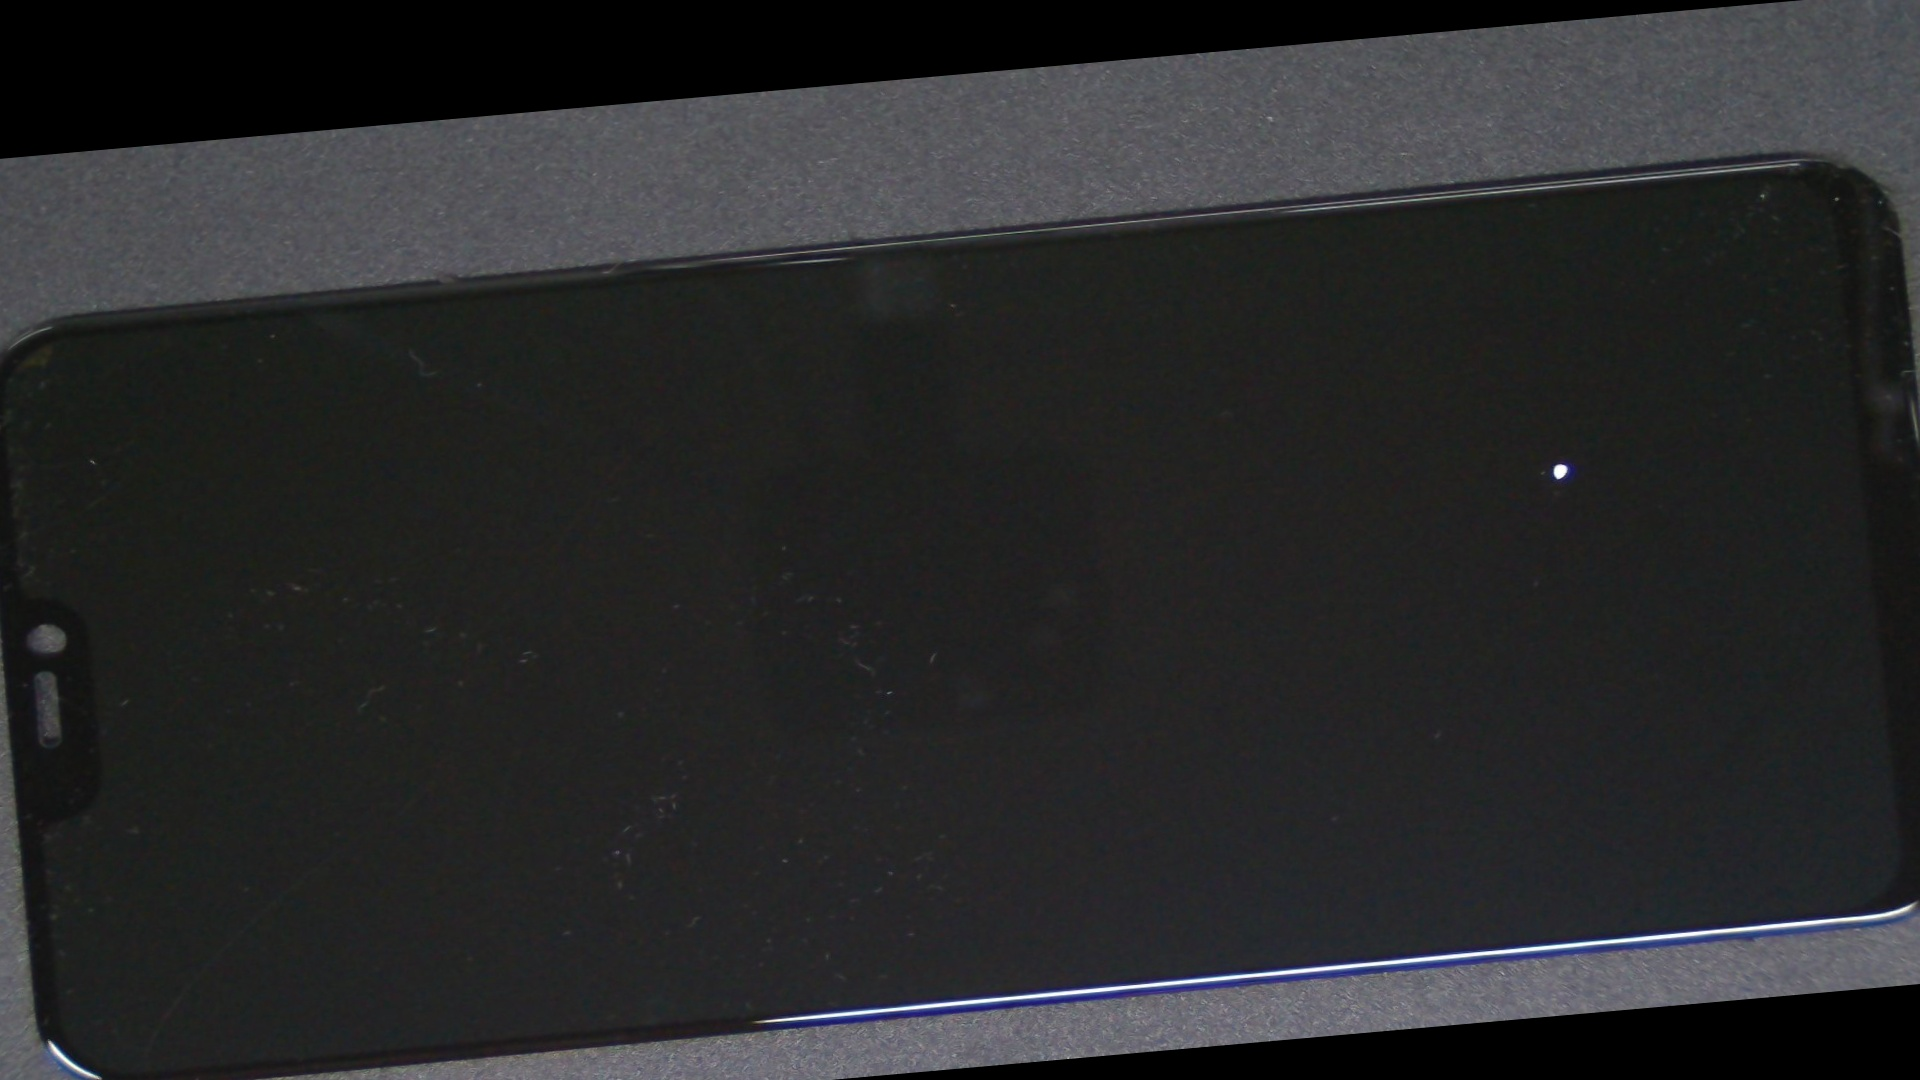oil: (723, 204, 1920, 754)
